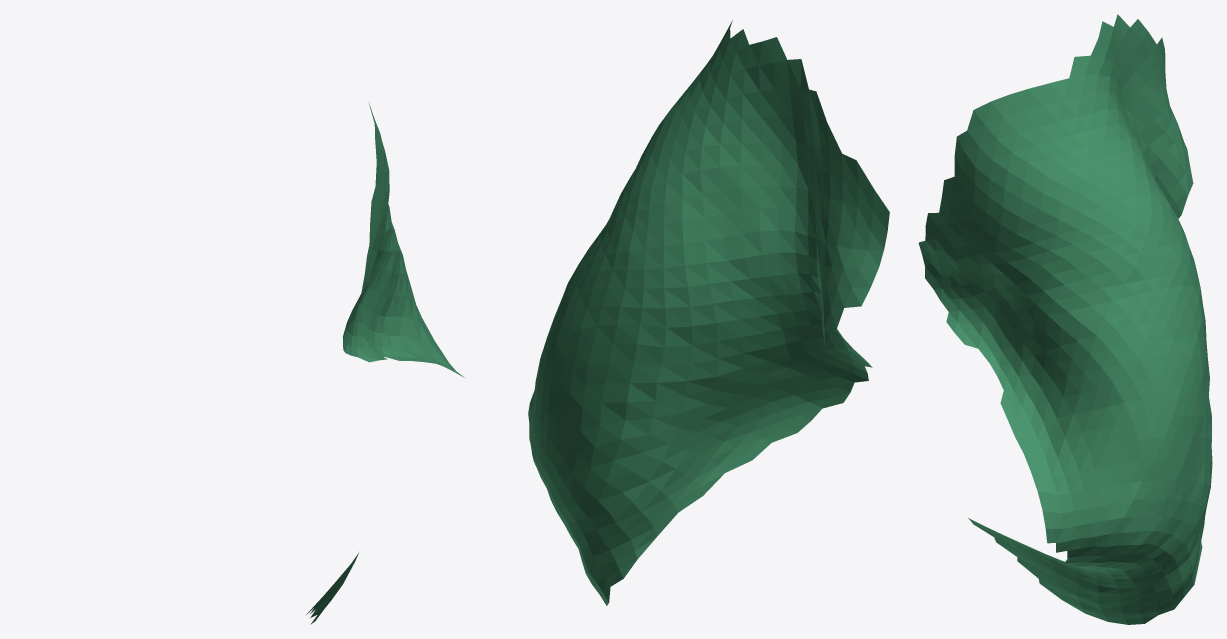
File: rh_parsorbitalis.glb
3 views of the same model, side by side, from view 1: azimuth 30°, elevation 25°; view 2: azimuth 150°, elevation 25°; view 3: azimuth 270°, elevation 25° (orthographic). The views are drawn at different scales.
Parts seen in each view (by area): view 1: world; view 2: world; view 3: world.
Part boxes in pixels (x1=…): world: x1=306, y1=102, x2=464, y2=624; world: x1=528, y1=20, x2=889, y2=605; world: x1=918, y1=14, x2=1212, y2=624.
Bounding box in the file's own units: 21.51 × 30.73 × 14.85.
